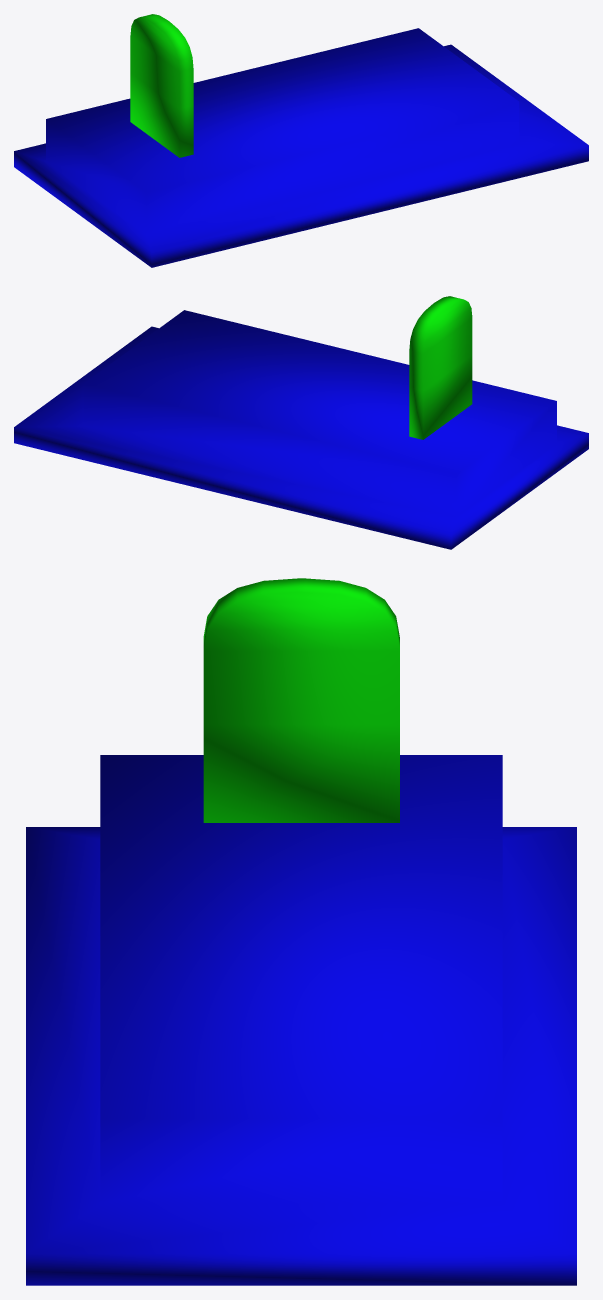
The model's file is tomb1_resized_uvs.fbx.
The picture shows the model from 3 angles, top to bottom: view 1: azimuth 30°, elevation 25°; view 2: azimuth 150°, elevation 25°; view 3: azimuth 270°, elevation 25°; orthographic projection. The views are drawn at different scales.
Parts seen in each view (by area): view 1: Tombe1:tombe_corps, Tombe1:tombe_stele; view 2: Tombe1:tombe_corps, Tombe1:tombe_stele; view 3: Tombe1:tombe_corps, Tombe1:tombe_stele.
Part boxes in pixels (box(x1,y1,x2,y2)): Tombe1:tombe_corps: box(14, 28, 588, 267); Tombe1:tombe_stele: box(130, 14, 193, 157); Tombe1:tombe_corps: box(14, 310, 588, 549); Tombe1:tombe_stele: box(409, 296, 472, 439); Tombe1:tombe_corps: box(26, 755, 576, 1285); Tombe1:tombe_stele: box(203, 578, 399, 822).
Size of the model in its own units: 694 by 266 by 379.
